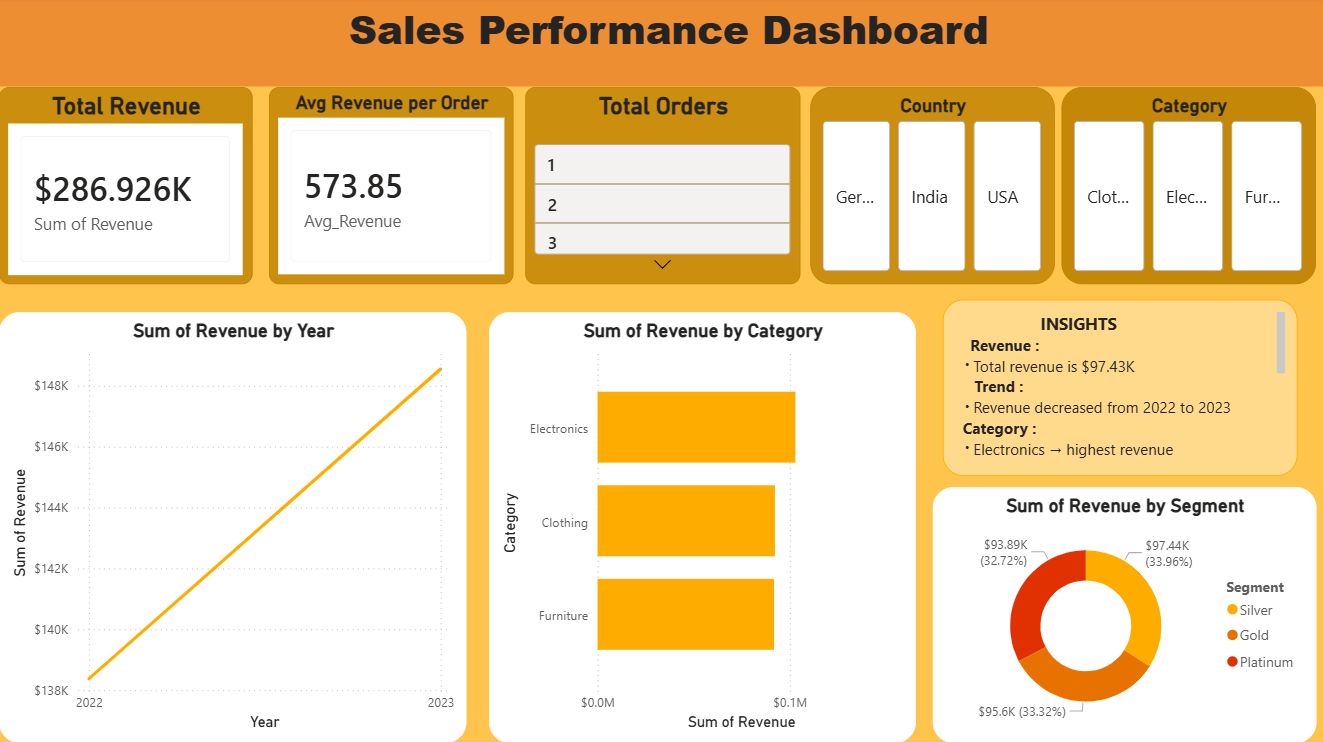

Layout of this report page (visuals, bound fields, positions):
{"tool":"powerbi","page":{"name":"Page 2","canvas":[1280,720],"ordinal":1},"visuals":[{"type":"textbox","box":[0,0,1280.3,86.4],"z":0},{"type":"cardVisual","title":"Total Revenue","fields":{"Data":["Sum(Sales_Fact - Sheet1.Revenue)"]},"box":[0,86.8,244.6,190.8],"z":1000},{"type":"cardVisual","title":"Total Orders","fields":{"Rows":["Sales_Fact - Sheet1.SalesID"]},"box":[507.5,86.8,265.4,190.8],"z":2000},{"type":"cardVisual","title":"Avg Revenue per Order","fields":{"Data":["Customer_Dim - Sheet1.Avg_Revenue"]},"box":[260.5,86.8,236,190.8],"z":3000},{"type":"advancedSlicerVisual","fields":{"Values":["Product_Dim - Sheet1.Category"]},"box":[1026,86.8,245.8,190.8],"z":4000},{"type":"advancedSlicerVisual","fields":{"Values":["Region_Dim - Sheet1.Country"]},"box":[782.6,86.8,236,190.8],"z":5000},{"type":"lineChart","fields":{"Category":["Date_Dim - Sheet1.Year"],"Y":["Sum(Sales_Fact - Sheet1.Revenue)"]},"box":[0,304.5,451.2,415.8],"z":6000},{"type":"clusteredBarChart","fields":{"Category":["Product_Dim - Sheet1.Category"],"Y":["Sum(Sales_Fact - Sheet1.Revenue)"]},"box":[473.2,304.5,412.1,415.8],"z":7000},{"type":"donutChart","fields":{"Category":["Customer_Dim - Sheet1.Segment"],"Y":["Sum(Sales_Fact - Sheet1.Revenue)"]},"box":[901.2,472.9,370.4,247.3],"z":8000},{"type":"textbox","box":[910.9,292,342.6,170.1],"z":9000}]}

Visuals, with their boxes in screenshot pixels (x1, y1, x2, y2), scaled from the page's 1280x720 canvas onto the 1323x742 screenshot:
textbox: l=0, t=0, r=1322, b=89
"Total Revenue" cardVisual: l=0, t=89, r=253, b=286
"Total Orders" cardVisual: l=525, t=89, r=799, b=286
"Avg Revenue per Order" cardVisual: l=269, t=89, r=513, b=286
advancedSlicerVisual - Product_Dim - Sheet1.Category: l=1060, t=89, r=1315, b=286
advancedSlicerVisual - Region_Dim - Sheet1.Country: l=809, t=89, r=1053, b=286
lineChart - Date_Dim - Sheet1.Year x Sum(Sales_Fact - Sheet1.Revenue): l=0, t=314, r=466, b=741
clusteredBarChart - Product_Dim - Sheet1.Category x Sum(Sales_Fact - Sheet1.Revenue): l=489, t=314, r=915, b=741
donutChart - Customer_Dim - Sheet1.Segment x Sum(Sales_Fact - Sheet1.Revenue): l=931, t=487, r=1314, b=741
textbox: l=942, t=301, r=1296, b=476
